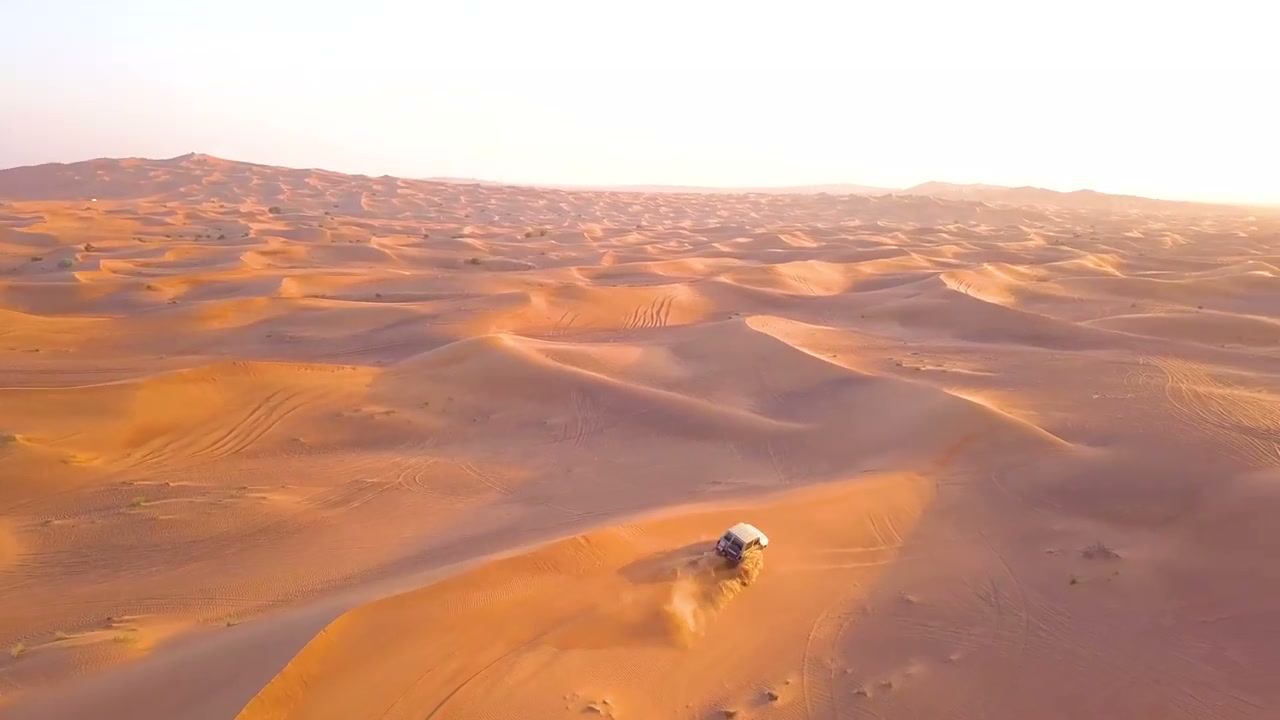vehicle_track: (112, 479, 393, 579), (182, 479, 393, 568), (1076, 622, 1266, 719), (188, 459, 393, 544), (977, 530, 1083, 681), (421, 618, 577, 719), (121, 390, 309, 469), (1144, 358, 1279, 467), (201, 479, 391, 555), (200, 479, 386, 543), (904, 573, 1030, 663), (42, 588, 283, 632), (801, 589, 866, 719), (801, 585, 860, 719), (389, 444, 515, 506), (191, 391, 304, 460), (977, 529, 1031, 672), (380, 440, 478, 504), (801, 600, 840, 719), (389, 453, 476, 505), (980, 463, 1054, 522), (0, 365, 154, 391), (827, 606, 857, 719), (378, 666, 437, 719), (777, 547, 898, 572), (311, 479, 393, 513), (0, 484, 82, 516), (390, 457, 451, 498), (126, 593, 263, 611), (318, 338, 422, 361), (560, 389, 601, 446), (454, 461, 512, 495), (592, 407, 658, 436), (623, 293, 674, 329), (752, 361, 784, 407), (753, 363, 784, 407), (866, 512, 902, 546), (1122, 358, 1149, 397), (765, 439, 787, 483), (650, 293, 675, 326), (548, 310, 578, 336), (784, 273, 817, 295), (622, 306, 639, 329)
